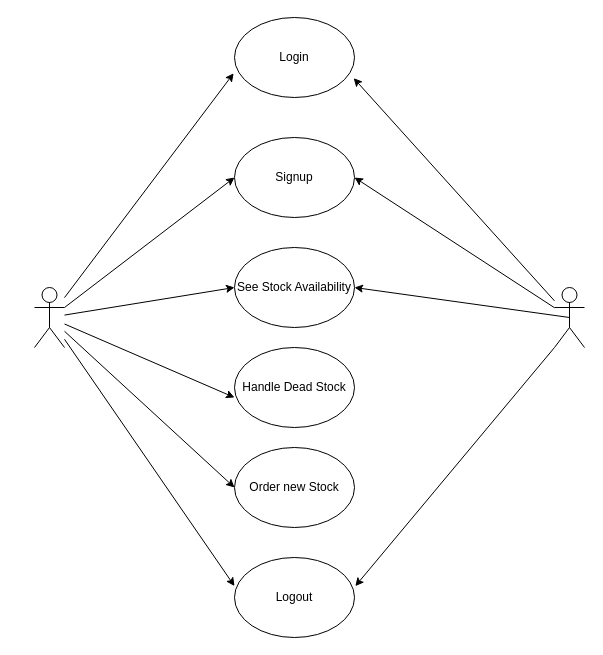
This 603x655 diagram has some shape labels left out. The shapes that lost their labels are listed below. From the top down, each one's box as (x1, y1, x2, y2) in pixels, then its label:
(34, 286, 64, 348): Warehouse Manager
(554, 286, 584, 348): Admin
